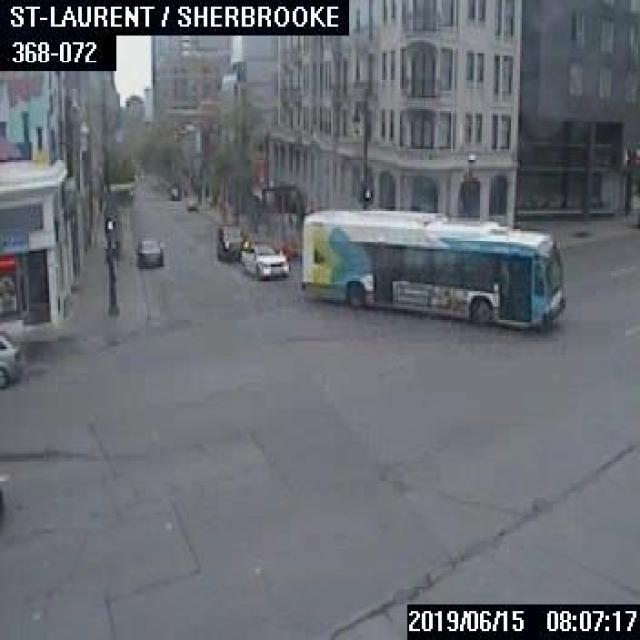bus: (298, 205, 566, 326)
vehicle: (238, 238, 288, 276), (0, 329, 22, 389), (216, 223, 247, 260), (133, 233, 162, 267), (168, 182, 180, 198), (185, 196, 196, 210)
